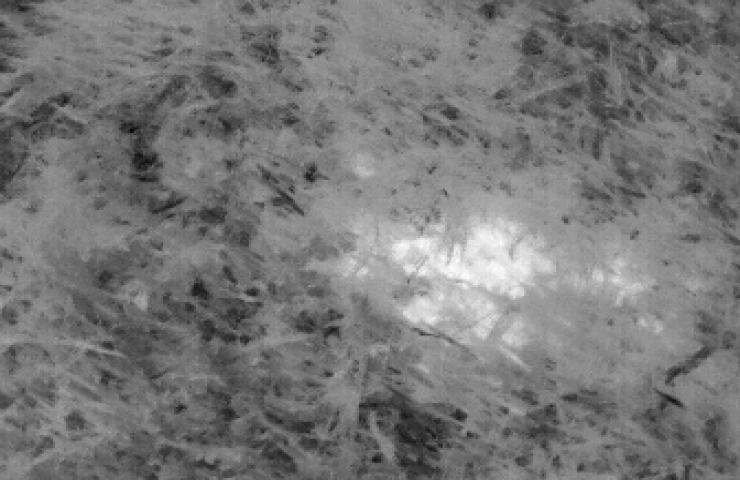landmines: (384, 208, 575, 358)
